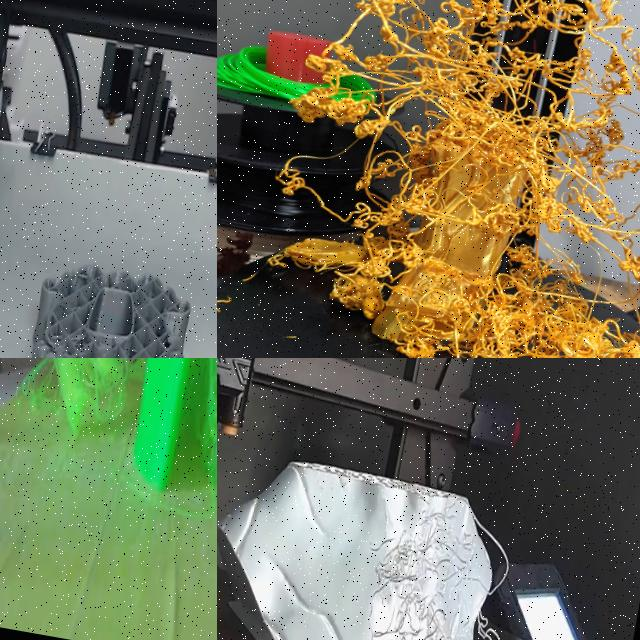spaghetti: (217, 0, 640, 358), (343, 484, 557, 640), (48, 358, 144, 435)
